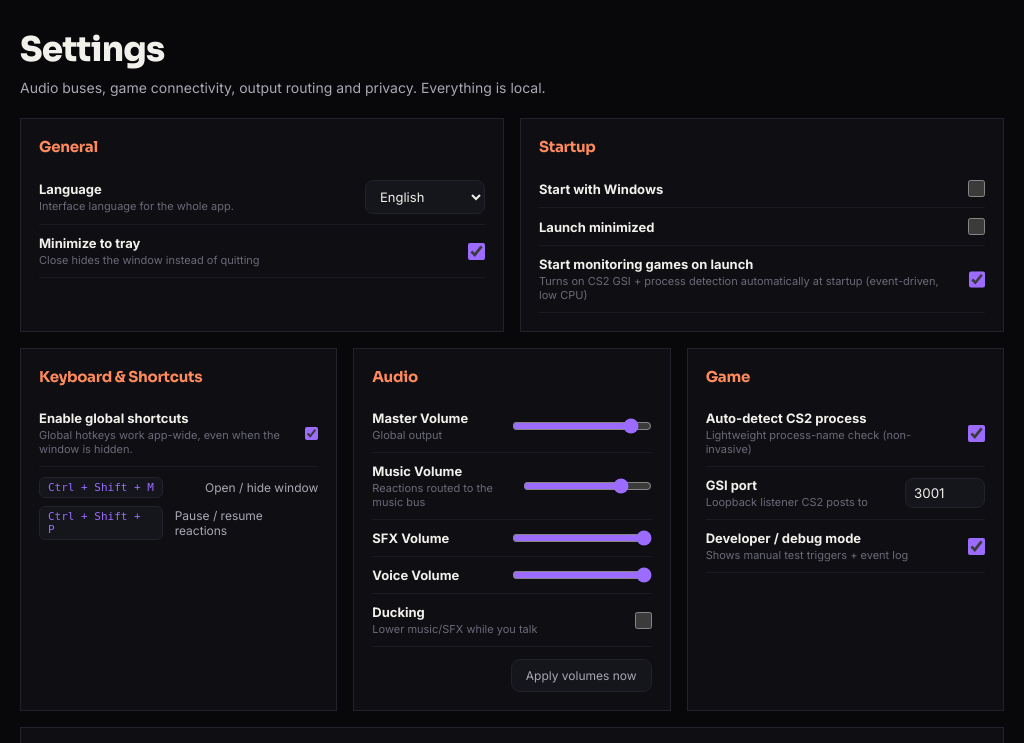
Scenario: SettingsPage › toggling ducking reveals the duck-level control
This screenshot has width=1024, height=743.
expect the text "Duck level" is not shown: met
# Locate the Ducking toggle by its label inside the Audio card (order-independent).
Click the checkbox next to "Lower music/SFX while you talk": click(643, 620) [635,612,652,628]
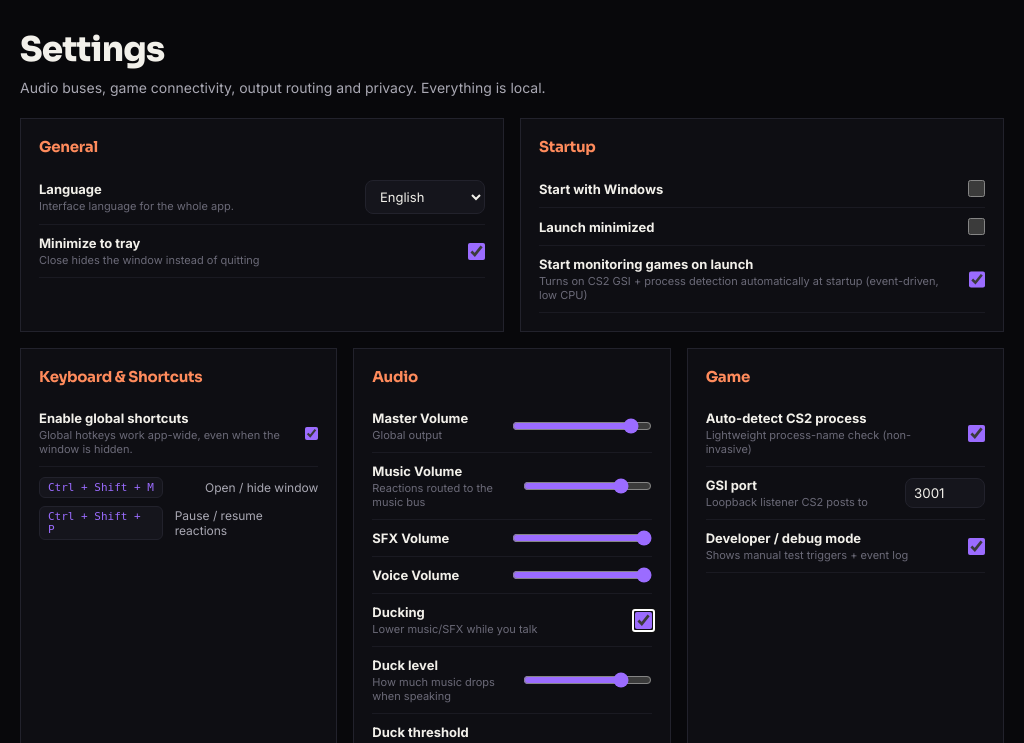
expect the text "Duck level" is shown: met, box [372,657,438,673]
